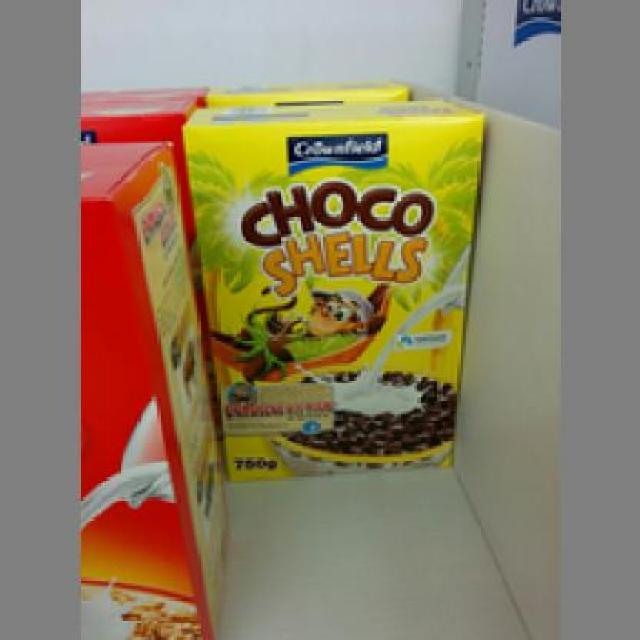Cereal: (180, 100, 486, 483)
